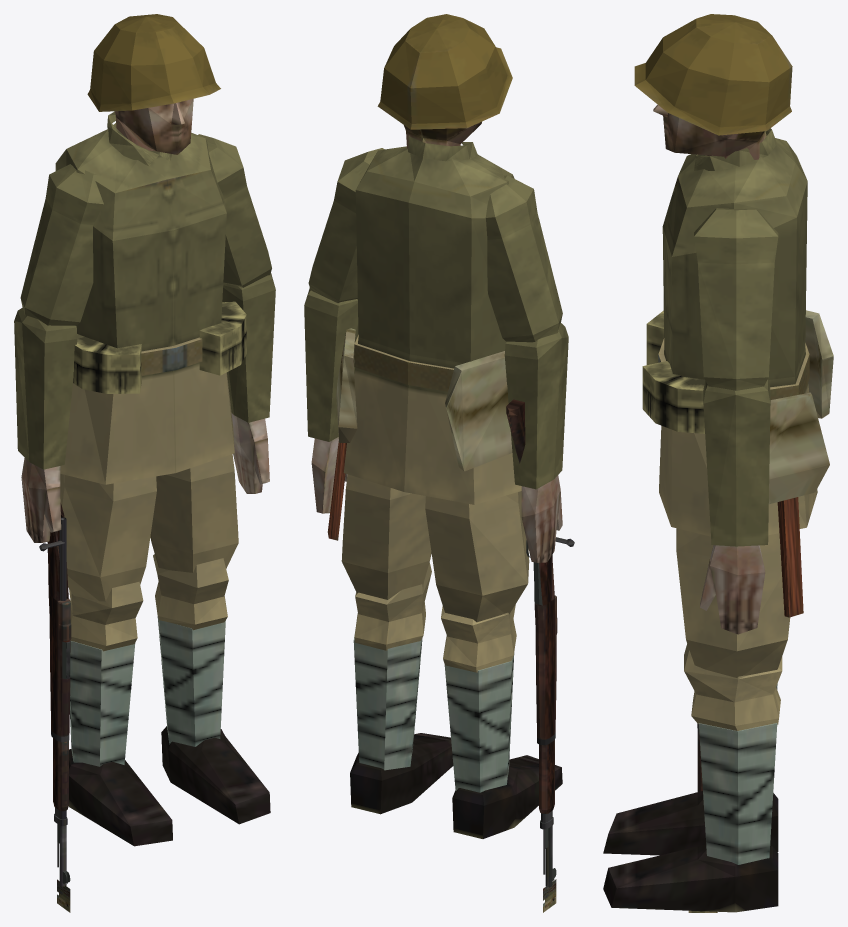
Rendered from esrrifle.dae.
3 renders of one model, left to right at view 1: azimuth 30°, elevation 25°; view 2: azimuth 150°, elevation 25°; view 3: azimuth 270°, elevation 25°, orthographic. The views are drawn at different scales.
Parts seen in each view (by area): view 1: torso, head, lleg, rloarm, rleg, rthigh, ruparm, lthigh, lloarm, gun, lfoot, rfoot (+1 smaller); view 2: torso, head, lleg, rleg, rthigh, rloarm, ruparm, lthigh, lloarm, gun, luparm, lfoot (+1 smaller); view 3: torso, head, lleg, lloarm, luparm, lfoot, lthigh, rfoot.
Boxes of the visible parts, box(x1,y1,x2,y2) form: torso: box(55, 111, 246, 484); head: box(87, 14, 220, 154); lleg: box(153, 554, 228, 746); rloarm: box(14, 307, 77, 542); rleg: box(69, 581, 143, 766); rthigh: box(60, 474, 156, 601); ruparm: box(20, 164, 103, 325); lthigh: box(150, 454, 238, 572); lloarm: box(222, 273, 275, 493); gun: box(39, 503, 71, 886); lfoot: box(161, 726, 270, 824); rfoot: box(69, 749, 172, 846); torso: box(327, 136, 521, 540); head: box(377, 14, 512, 148); lleg: box(353, 562, 431, 770); rleg: box(441, 604, 516, 792); rthigh: box(425, 491, 529, 622); rloarm: box(504, 323, 568, 562); ruparm: box(485, 175, 562, 342); lthigh: box(341, 474, 431, 599); lloarm: box(304, 288, 358, 513); gun: box(506, 399, 574, 887); luparm: box(308, 148, 384, 302); lfoot: box(350, 733, 453, 814); torso: box(642, 128, 833, 617); head: box(634, 14, 792, 159); lleg: box(684, 644, 782, 864); lloarm: box(700, 379, 770, 634); luparm: box(694, 208, 778, 390); lfoot: box(603, 844, 778, 912); lthigh: box(676, 528, 790, 677); rfoot: box(603, 791, 778, 855).
Bounding box in the file's own units: 4.74 × 3.49 × 15.74.
1 material, 1 textured.
